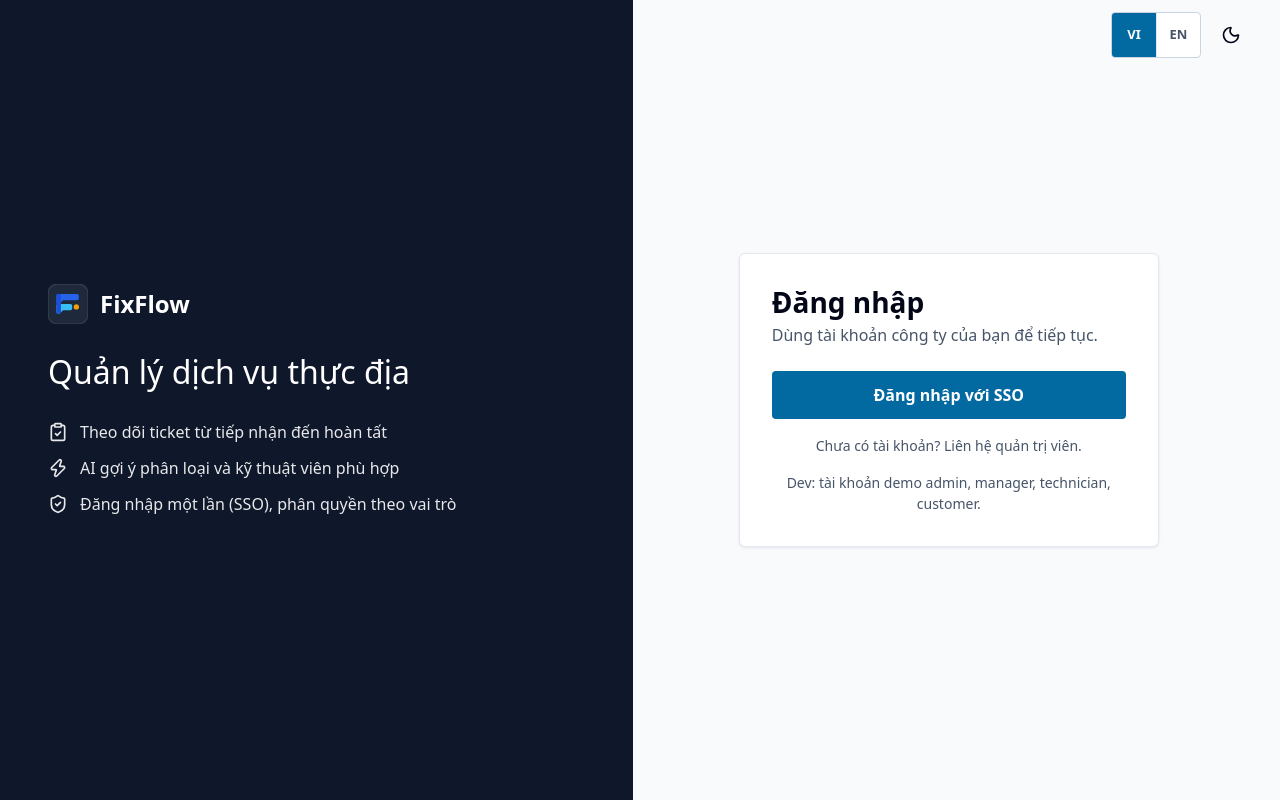
Scenario: Login › clicking the button starts the SSO redirect and shows a loading state
Click the button "Đăng nhập với SSO".
click(949, 395)  # box x1=772 y1=371 x2=1126 y2=419
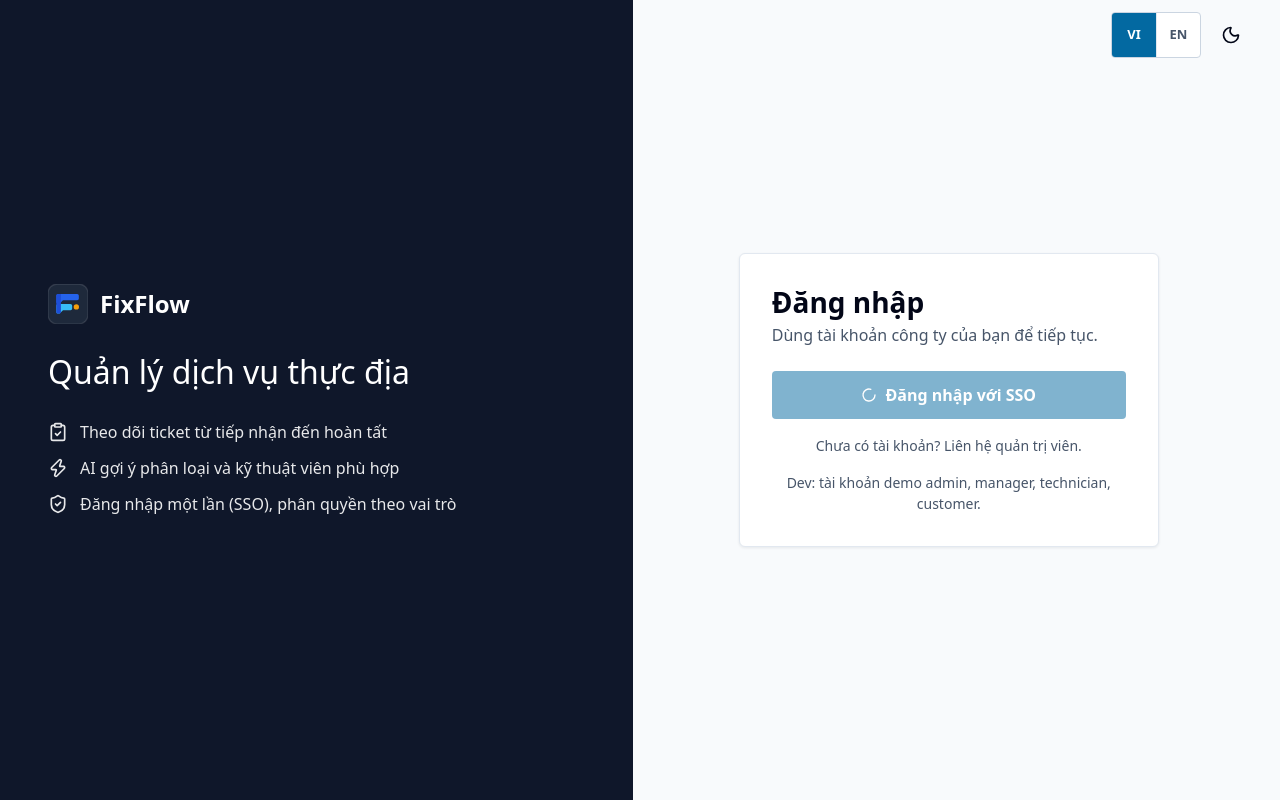
expect the button "Đăng nhập với SSO" is disabled: met, box x1=772 y1=371 x2=1126 y2=419
